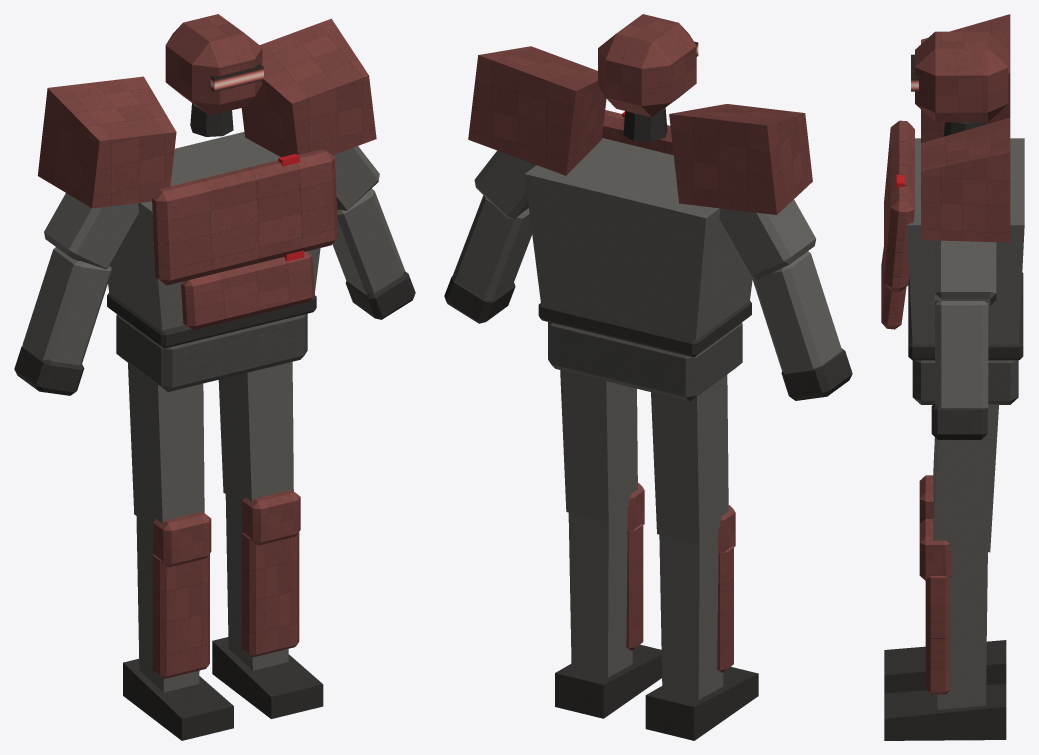
The model's file is char_bulwark.obj.
3 renders of one model, left to right at view 1: azimuth 30°, elevation 25°; view 2: azimuth 150°, elevation 25°; view 3: azimuth 270°, elevation 25°, orthographic.
Parts seen in each view (by area): view 1: char_bulwark; view 2: char_bulwark; view 3: char_bulwark.
Part boxes in pixels (x1,y1,x2,y2): char_bulwark: (14, 14, 415, 740); char_bulwark: (444, 14, 852, 740); char_bulwark: (881, 14, 1024, 740).
Size of the model in its own units: 1.08 by 1.81 by 0.3527.
Materials: 1 (1 with a texture image).
